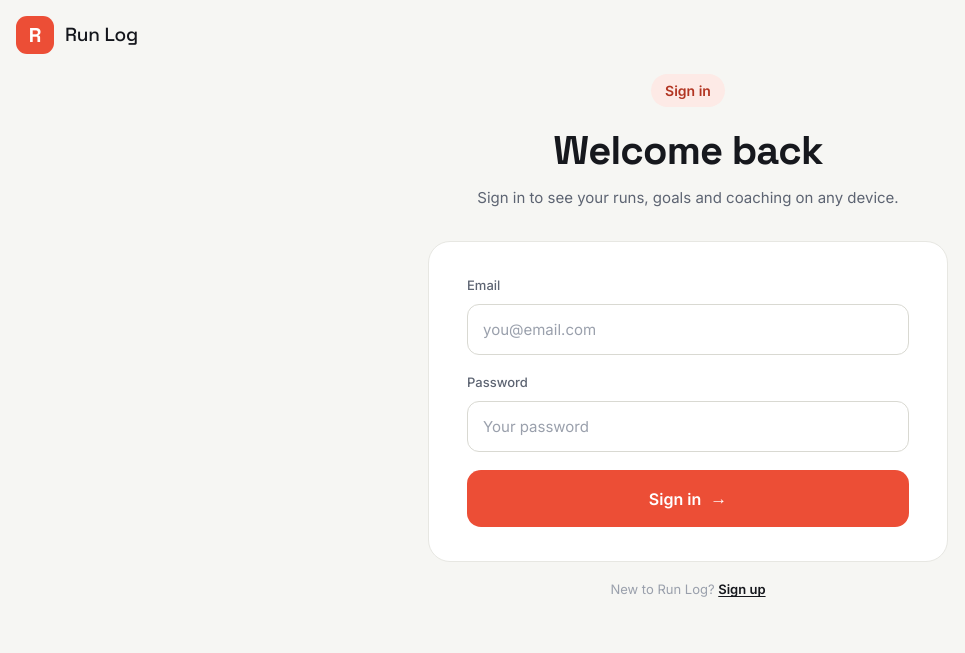
Scenario: Sign in page (RUN-58) › shows ONE vague inline error for wrong credentials, and stays signed out (AC4)
Type "ana@example.com" into the field labelled "Email" at (688, 330), box x1=467 y1=304 x2=909 y2=355
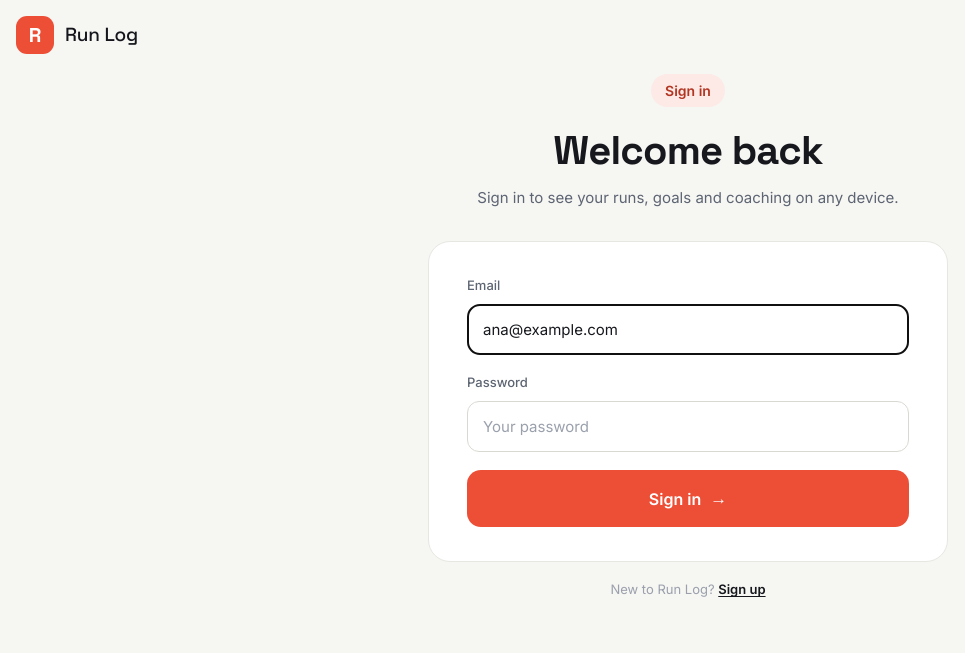
Type "wrong-password" into the password field labelled "Password" at (688, 426), box x1=467 y1=401 x2=909 y2=452
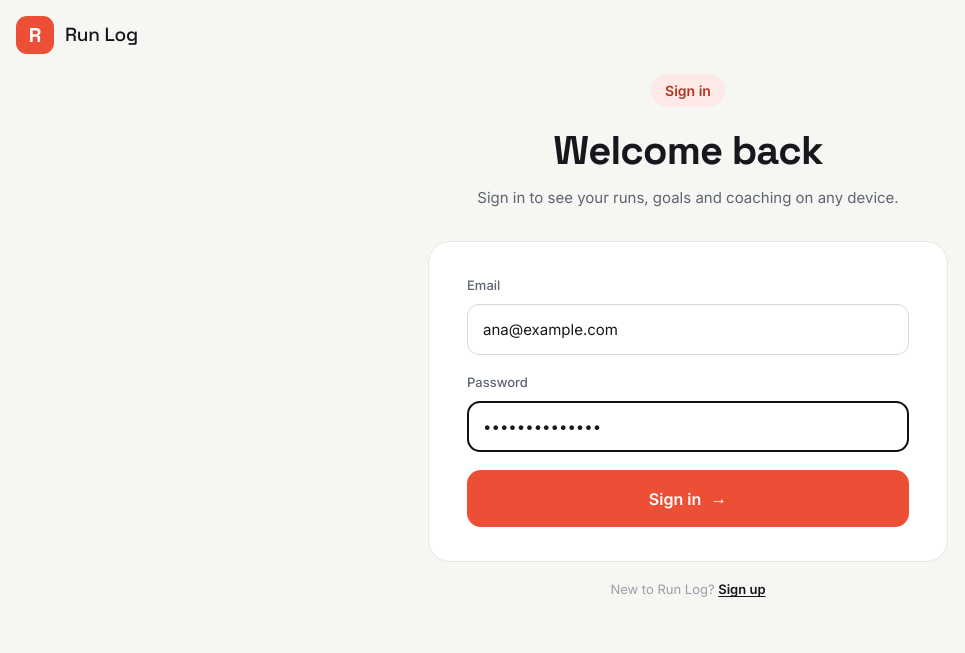
Click the button "Sign in →" at (688, 499), box x1=467 y1=470 x2=909 y2=527
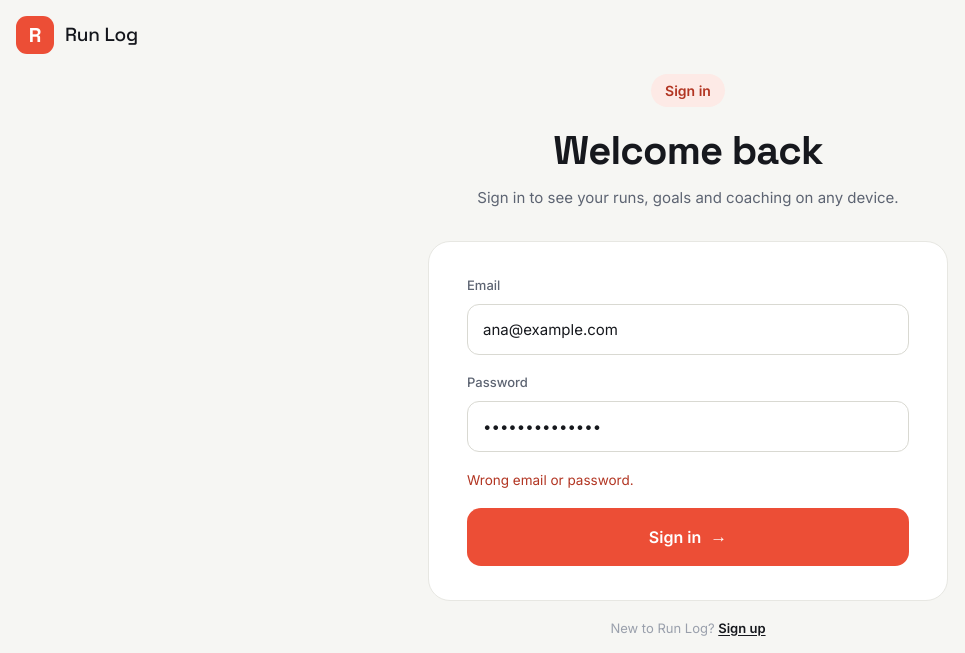
Result: the message reads "Wrong email or password." at x1=467 y1=472 x2=634 y2=488
